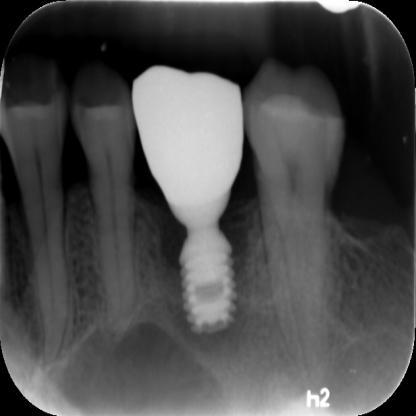Bicon: (163, 197, 241, 334)
